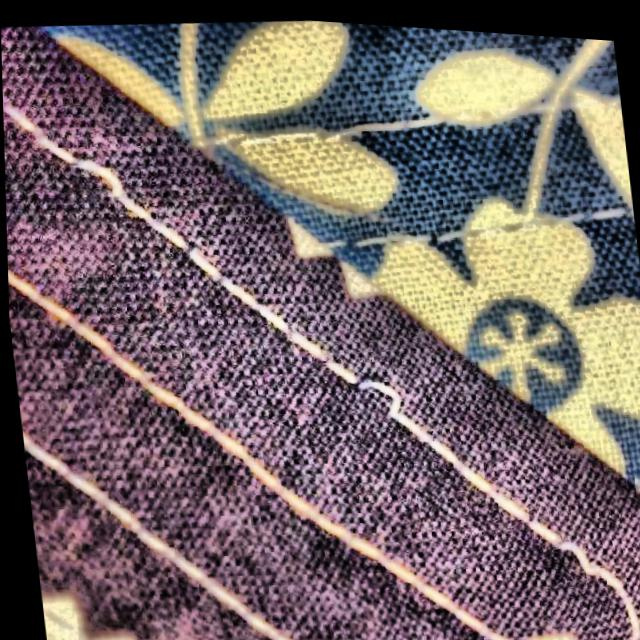Stitch: (38, 109, 172, 252), (302, 314, 433, 459)
